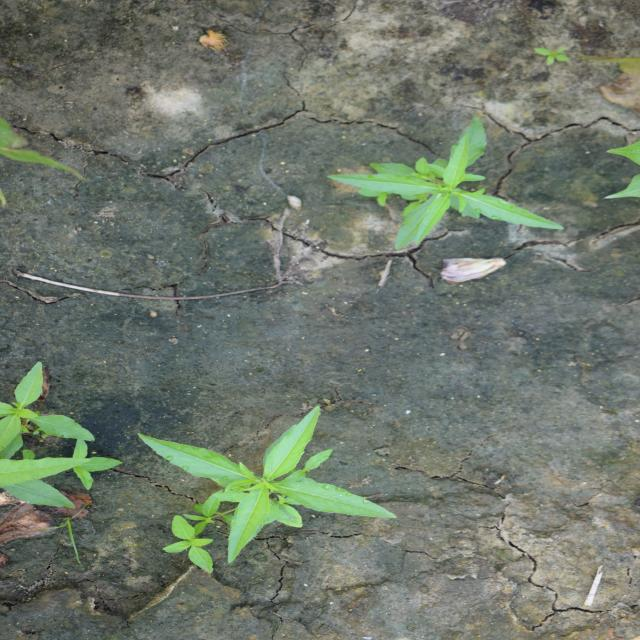Eclipta: (136, 406, 399, 576), (323, 116, 567, 252), (0, 359, 124, 511)
